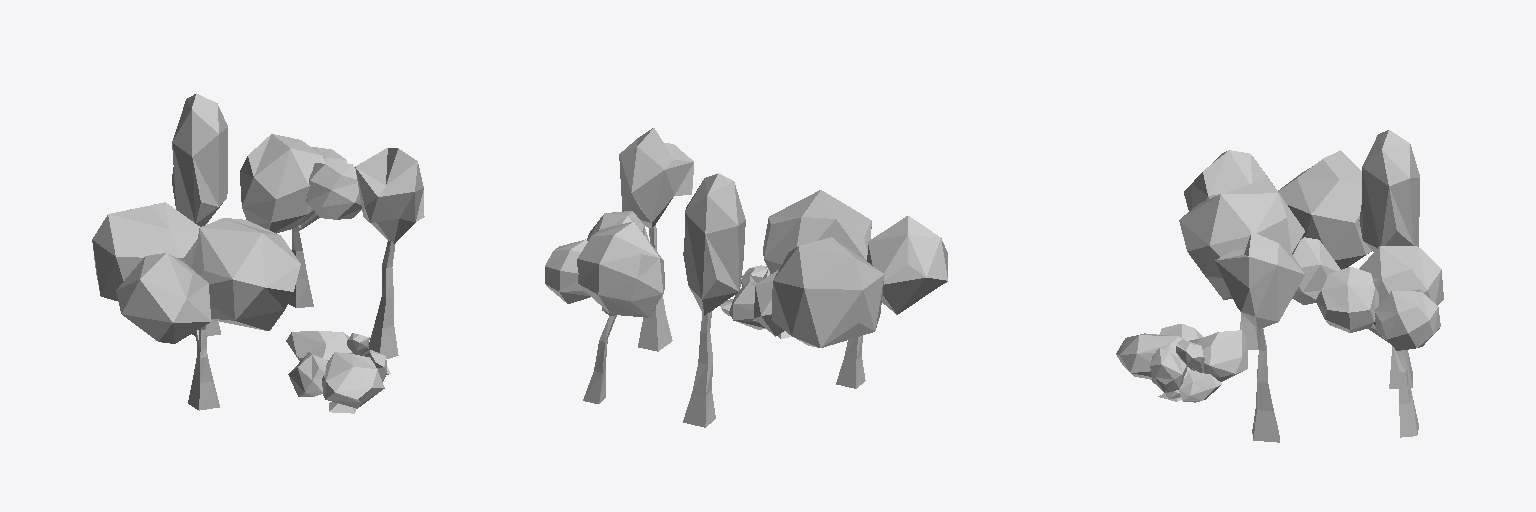
The model's file is simpleForest.obj.
3 renders of one model, left to right at view 1: azimuth 30°, elevation 25°; view 2: azimuth 150°, elevation 25°; view 3: azimuth 270°, elevation 25°, orthographic.
Parts seen in each view (by area): view 1: uploads_files_759542_tree; view 2: uploads_files_759542_tree; view 3: uploads_files_759542_tree.
Boxes of the visible parts, box(x1,y1,x2,y2) form: uploads_files_759542_tree: box(92, 93, 424, 413); uploads_files_759542_tree: box(545, 128, 947, 427); uploads_files_759542_tree: box(1116, 130, 1443, 442).
Size of the model in its own units: 52.47 by 39.48 by 47.38.